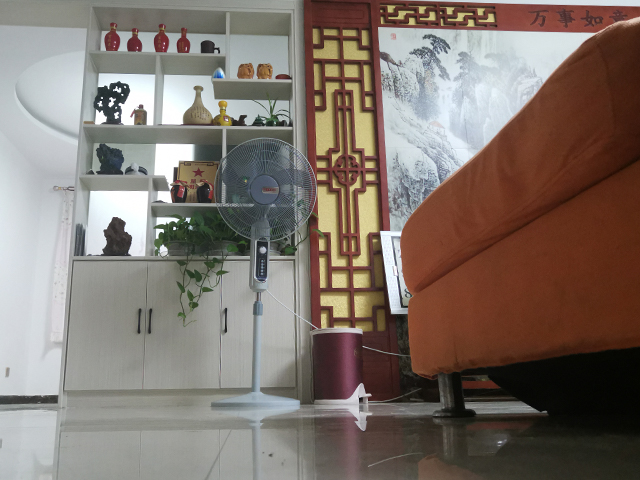cabinet: (59, 256, 302, 407)
cabinettrashcan: (306, 326, 375, 409)
sofa: (395, 14, 640, 420)
wire: (365, 346, 408, 406)
